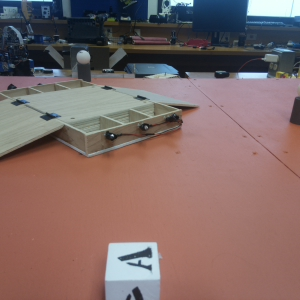obstacle: (73, 46, 99, 79), (290, 84, 300, 116)
side: (71, 108, 188, 141), (2, 82, 94, 95)
slope: (1, 99, 67, 150), (100, 81, 196, 105)
